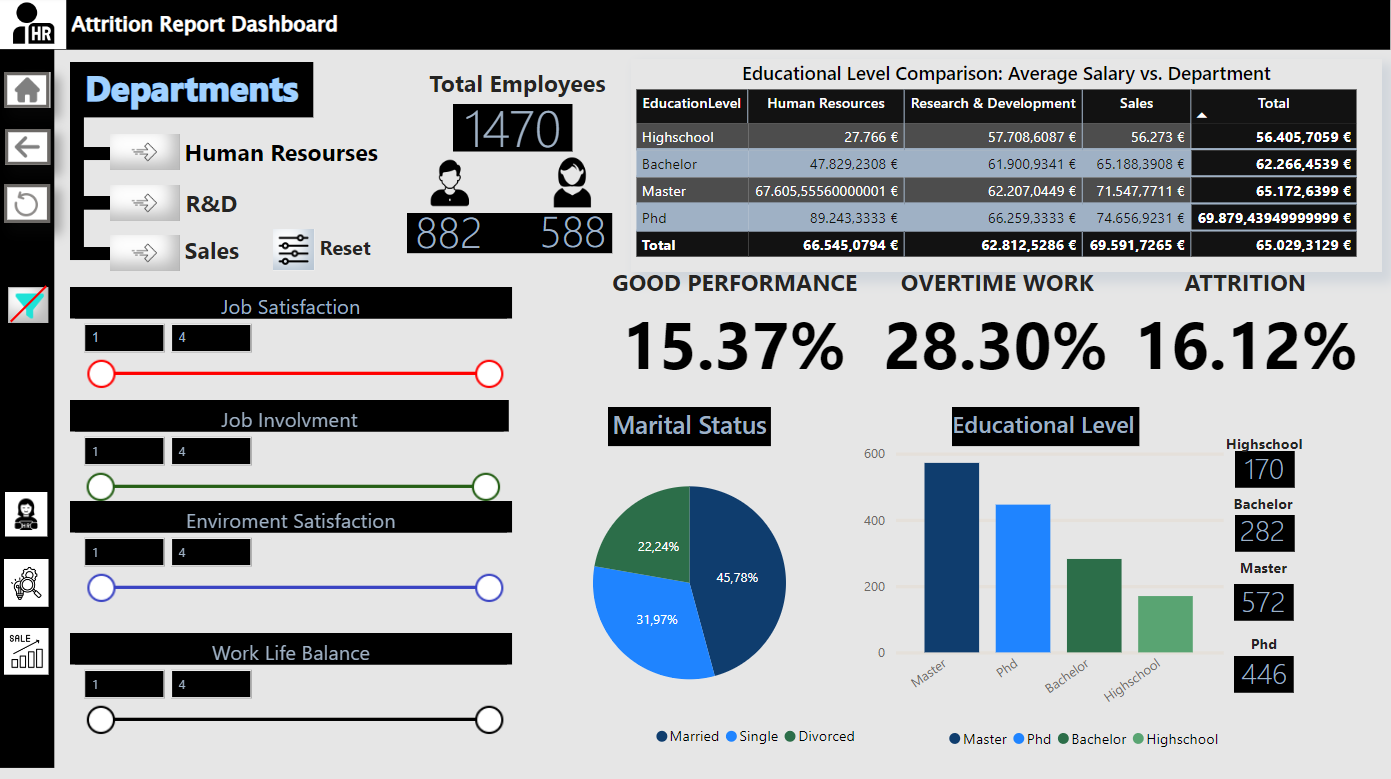

The dashboard page shown, as its layout file describes it:
{"tool":"powerbi","page":{"name":"Home","canvas":[1280,720],"ordinal":0},"visuals":[{"type":"shape","box":[876.2,377.5,172.5,36.2],"z":0},{"type":"shape","box":[0,0,50.5,709.8],"z":1000},{"type":"image","box":[5,456.1,38.9,41.1],"z":1000,"group":"g1"},{"type":"image","box":[4.2,69.2,41.7,33.3],"z":2000},{"type":"shape","box":[560,377.5,150,36.2],"z":3000},{"type":"shape","box":[64.3,60,224.3,51.4],"z":4000},{"type":"shape","box":[417.5,98.8,110,43.8],"z":5000},{"type":"shape","box":[374.7,198.9,188.9,37.4],"z":6000},{"type":"card","fields":{"Values":["CountNonNull(Employees_Table.Gender)"]},"box":[374.7,186.3,77.4,57.4],"z":7000},{"type":"image","box":[387.5,142.5,52.5,56.2],"z":8000},{"type":"card","fields":{"Values":["CountNonNull(Employees_Table.Gender)"]},"box":[487.9,190,78.9,48.9],"z":9000},{"type":"image","box":[498.8,142.5,56.2,56.2],"z":10000},{"type":"card","fields":{"Values":["CountNonNull(Employees_Table.Gender)"]},"box":[417.5,90,110,57.5],"z":11000},{"type":"textbox","box":[383.8,60,185,38.8],"z":12000},{"type":"pieChart","title":"Marital Status","fields":{"Y":["CountNonNull(Employees_Table.MaritalStatus)"],"Category":["Employees_Table.MaritalStatus"]},"box":[472.5,378.8,325,321.2],"z":13000},{"type":"shape","box":[37.1,0,13.4,17.8],"z":14000},{"type":"shape","box":[0,0,1280,48.6],"z":15000},{"type":"textbox","box":[60.9,6.4,294.5,41.8],"z":16000},{"type":"columnChart","title":"Educational Level","fields":{"Y":["CountNonNull(Employees_Table.EducationLevel)"],"Category":["Employees_Table.EducationLevel"],"Series":["Employees_Table.EducationLevel"]},"box":[790,378.3,341.7,323.3],"z":17000},{"type":"textbox","box":[64.3,55.7,224.3,55.7],"z":18000},{"type":"shape","box":[64.4,108.4,12.8,130.6],"z":19000},{"type":"shape","box":[64.4,230,37,12.2],"z":20000},{"type":"shape","box":[64.4,183,37,12.6],"z":21000},{"type":"shape","box":[64.4,137.8,37.2,12.2],"z":22000},{"type":"pivotTable","title":"Educational Level Comparison: Average Salary vs. Department","fields":{"Rows":["Employees_Table.EducationLevel"],"Values":["Avg(Salary_Table.MonthlyIncome)"],"Columns":["Employees_Table.Department"]},"box":[581.1,56.7,691.1,195.6],"z":23000},{"type":"card","fields":{"Values":["Metrics_Table.Attrition_yes"]},"box":[1026.7,266.7,241.1,98.9],"z":24000},{"type":"textbox","box":[1037.8,243.3,217.8,45.6],"z":25000},{"type":"slicer","title":"Job Satisfaction","fields":{"Values":["Metrics_Table.JobSatisfaction"]},"box":[64.4,266.7,406.7,98.9],"z":26000},{"type":"slicer","title":"Job Involvment","fields":{"Values":["Metrics_Table.JobInvolvement"]},"box":[64.3,371.4,404.3,101.4],"z":27000},{"type":"slicer","title":"Enviroment Satisfaction","fields":{"Values":["Metrics_Table.EnvironmentSatisfaction"]},"box":[64.4,464.4,406.7,108.9],"z":28000},{"type":"slicer","title":"Work Life Balance","fields":{"Values":["Metrics_Table.JobSatisfaction"]},"box":[64.3,585.7,407.1,102.9],"z":29000},{"type":"shape","box":[1135.9,606.4,55.4,33.8],"z":30000},{"type":"shape","box":[1135.9,540.2,55.4,33.8],"z":31000},{"type":"shape","box":[1136.7,477.2,55.4,33.8],"z":32000},{"type":"shape","box":[1136.7,417.9,55.4,33.8],"z":33000},{"type":"card","fields":{"Values":["CountNonNull(Employees_Table.EducationLevel)"]},"box":[1087.6,452.4,150,78.6],"z":34000},{"type":"card","fields":{"Values":["CountNonNull(Employees_Table.EducationLevel)"]},"box":[1088.3,396.3,151.3,77.3],"z":35000},{"type":"card","fields":{"Values":["CountNonNull(Employees_Table.EducationLevel)"]},"box":[1087.6,518.1,151.4,77.1],"z":36000},{"type":"card","fields":{"Values":["CountNonNull(Employees_Table.EducationLevel)"]},"box":[1088.3,585,151.3,77.3],"z":37000},{"type":"textbox","box":[1071.3,396.4,184.6,38.5],"z":38000},{"type":"textbox","box":[1122.8,452.2,81.2,40],"z":39000},{"type":"textbox","box":[1107.8,511,111.2,38.8],"z":40000},{"type":"textbox","box":[1132.8,581,62.5,30],"z":41000},{"type":"actionButton","box":[4.1,69.1,41.8,33.2],"z":42000},{"type":"image","box":[0,0,61.3,48],"z":43000},{"type":"image","box":[4.1,173.6,41.8,33.2],"z":44000},{"type":"image","box":[5,121.4,40.9,33.2],"z":45000},{"type":"actionButton","box":[4.5,121.4,41.8,33.2],"z":46000},{"type":"actionButton","box":[3.3,172.5,42.5,35.8],"z":47000},{"type":"card","fields":{"Values":["Salary_Table.Overtime_yes"]},"box":[796.7,266.7,241.1,98.9],"z":48000},{"type":"textbox","box":[808.9,243.3,217.8,45.6],"z":49000},{"type":"card","fields":{"Values":["Metrics_Table.Lower_Performance"]},"box":[555.6,266.7,241.1,98.9],"z":50000},{"type":"textbox","box":[551.1,243.3,250,46.7],"z":51000},{"type":"image","box":[7.1,267.1,37.1,32.9],"z":52000},{"type":"textbox","box":[165,123.3,201.1,38.9],"z":53000},{"type":"image","box":[101.7,126.1,63.9,32.8],"z":54000},{"type":"image","box":[101.1,172.8,63.9,32.8],"z":55000},{"type":"image","box":[101.7,219.4,63.9,32.8],"z":56000},{"type":"textbox","box":[165.6,170,201.1,38.9],"z":57000},{"type":"textbox","box":[165,213.8,72.5,38.8],"z":58000},{"type":"shape","box":[6.9,265.4,37.7,34.6],"z":59000},{"type":"image","box":[4,517,41,44],"z":60000},{"type":"image","box":[4,581,41,43],"z":61000},{"type":"group","id":"g1","title":"Group 1","box":[5,456.1,38.9,41.1],"z":62000},{"type":"image","box":[251.5,213.8,37.7,38.5],"z":63000},{"type":"textbox","box":[289.2,213.1,125.4,39.2],"z":64000}]}

Visuals, with their boxes on the page's 1280x720 design canvas (x1, y1, x2, y2). These are canvas units, not pixel positions in the 1391x779 screenshot, which may show the page scaled, cropped or inside an application window:
shape: detection(876, 378, 1049, 414)
shape: detection(0, 0, 50, 710)
image: detection(5, 456, 44, 497)
image: detection(4, 69, 46, 102)
shape: detection(560, 378, 710, 414)
shape: detection(64, 60, 289, 111)
shape: detection(418, 99, 528, 143)
shape: detection(375, 199, 564, 236)
card - CountNonNull(Employees_Table.Gender): detection(375, 186, 452, 244)
image: detection(388, 142, 440, 199)
card - CountNonNull(Employees_Table.Gender): detection(488, 190, 567, 239)
image: detection(499, 142, 555, 199)
card - CountNonNull(Employees_Table.Gender): detection(418, 90, 528, 148)
textbox: detection(384, 60, 569, 99)
"Marital Status" pieChart: detection(472, 379, 798, 700)
shape: detection(37, 0, 50, 18)
shape: detection(0, 0, 1280, 49)
textbox: detection(61, 6, 355, 48)
"Educational Level" columnChart: detection(790, 378, 1132, 702)
textbox: detection(64, 56, 289, 111)
shape: detection(64, 108, 77, 239)
shape: detection(64, 230, 101, 242)
shape: detection(64, 183, 101, 196)
shape: detection(64, 138, 102, 150)
"Educational Level Comparison: Average Salary vs. Department" pivotTable: detection(581, 57, 1272, 252)
card - Metrics_Table.Attrition_yes: detection(1027, 267, 1268, 366)
textbox: detection(1038, 243, 1256, 289)
"Job Satisfaction" slicer: detection(64, 267, 471, 366)
"Job Involvment" slicer: detection(64, 371, 469, 473)
"Enviroment Satisfaction" slicer: detection(64, 464, 471, 573)
"Work Life Balance" slicer: detection(64, 586, 471, 689)
shape: detection(1136, 606, 1191, 640)
shape: detection(1136, 540, 1191, 574)
shape: detection(1137, 477, 1192, 511)
shape: detection(1137, 418, 1192, 452)
card - CountNonNull(Employees_Table.EducationLevel): detection(1088, 452, 1238, 531)
card - CountNonNull(Employees_Table.EducationLevel): detection(1088, 396, 1240, 474)
card - CountNonNull(Employees_Table.EducationLevel): detection(1088, 518, 1239, 595)
card - CountNonNull(Employees_Table.EducationLevel): detection(1088, 585, 1240, 662)
textbox: detection(1071, 396, 1256, 435)
textbox: detection(1123, 452, 1204, 492)
textbox: detection(1108, 511, 1219, 550)
textbox: detection(1133, 581, 1195, 611)
actionButton: detection(4, 69, 46, 102)
image: detection(0, 0, 61, 48)
image: detection(4, 174, 46, 207)
image: detection(5, 121, 46, 155)
actionButton: detection(4, 121, 46, 155)
actionButton: detection(3, 172, 46, 208)
card - Salary_Table.Overtime_yes: detection(797, 267, 1038, 366)
textbox: detection(809, 243, 1027, 289)
card - Metrics_Table.Lower_Performance: detection(556, 267, 797, 366)
textbox: detection(551, 243, 801, 290)
image: detection(7, 267, 44, 300)
textbox: detection(165, 123, 366, 162)
image: detection(102, 126, 166, 159)
image: detection(101, 173, 165, 206)
image: detection(102, 219, 166, 252)
textbox: detection(166, 170, 367, 209)
textbox: detection(165, 214, 238, 253)
shape: detection(7, 265, 45, 300)
image: detection(4, 517, 45, 561)
image: detection(4, 581, 45, 624)
"Group 1" group: detection(5, 456, 44, 497)
image: detection(252, 214, 289, 252)
textbox: detection(289, 213, 415, 252)
